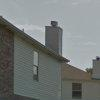Chimney: (38, 14, 70, 62)
